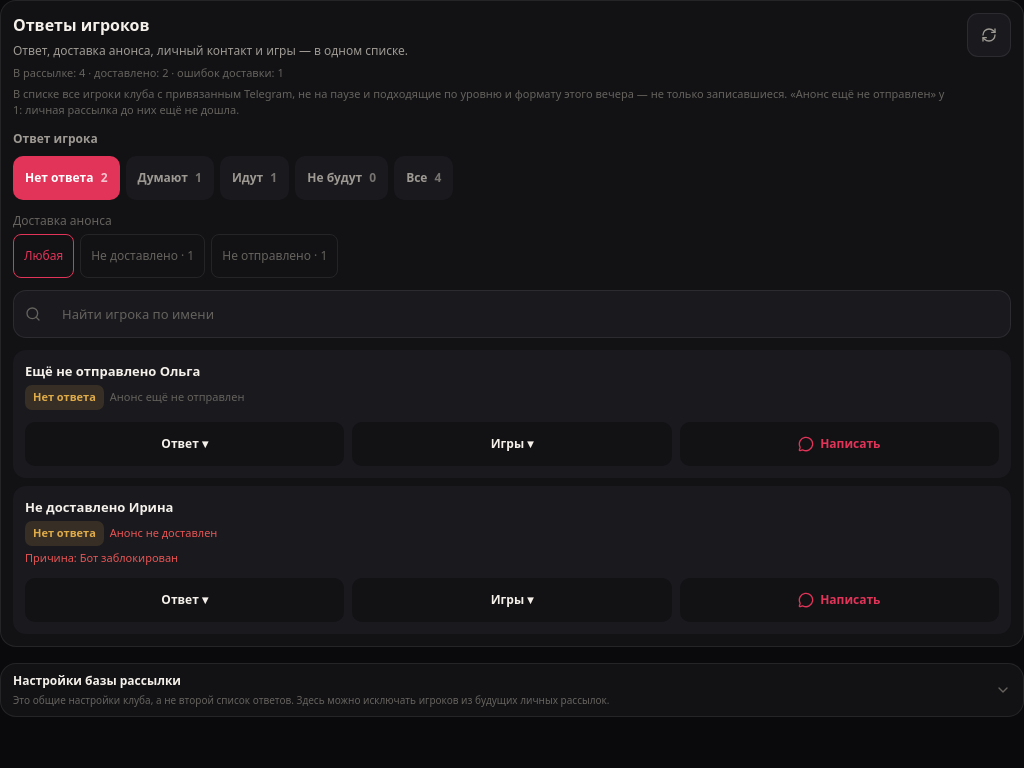
Test: one organizer response and delivery worklist › keeps response buckets separate from delivery and closes the picker without saving
Check: the element with test id "evening-answer-row-p-failed" is shown, box [13,486,1011,634]
What coordinates should you click on to do the following:
click the button "Думают 1"
I would click on:
 (170, 178)
Its box is [126,156,214,200].
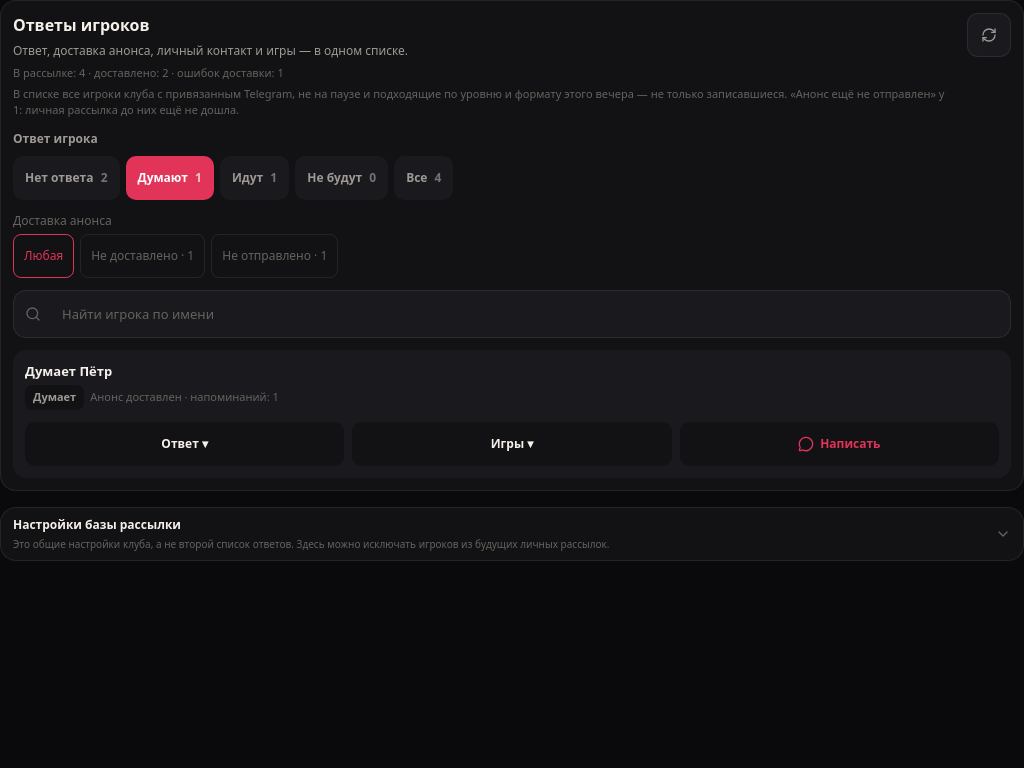
Check: the element with test id "evening-answer-row-p-thinking" is shown, box [13,350,1011,478]
Check: the element with test id "evening-answer-row-p-failed" is gone
What coordinates should you click on to do the following:
click the button "Все 4"
I would click on:
 (424, 178)
Its box is [394,156,453,200].
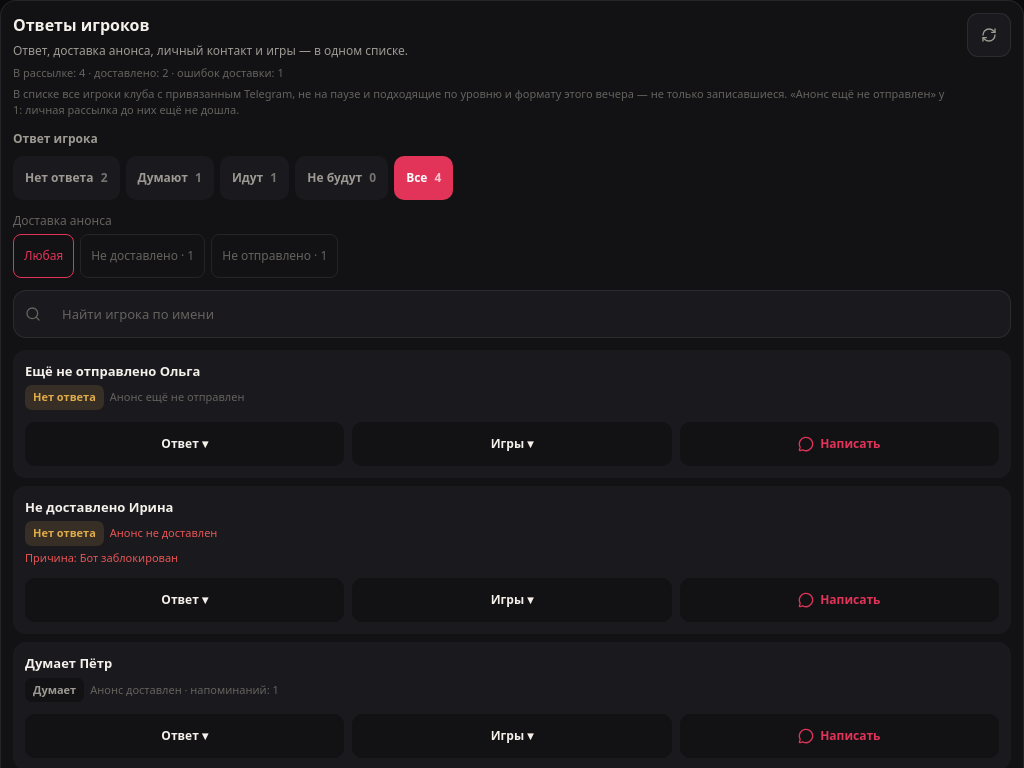
What coordinates should you click on to do the following:
click the button "Не доставлено · 1"
I would click on:
 (143, 256)
Its box is [80,234,205,278].
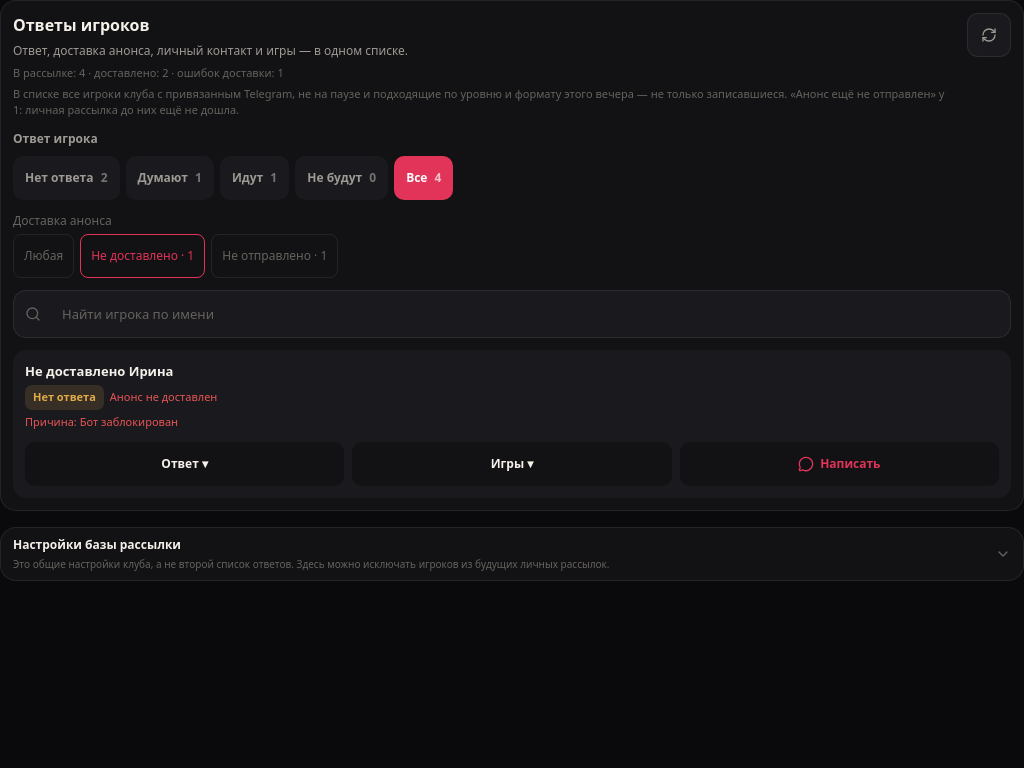
What coordinates should you click on to do the following:
click the button "Ответ ▾"
I would click on:
 (185, 464)
Its box is [25,442,344,486].
(page scrolled)
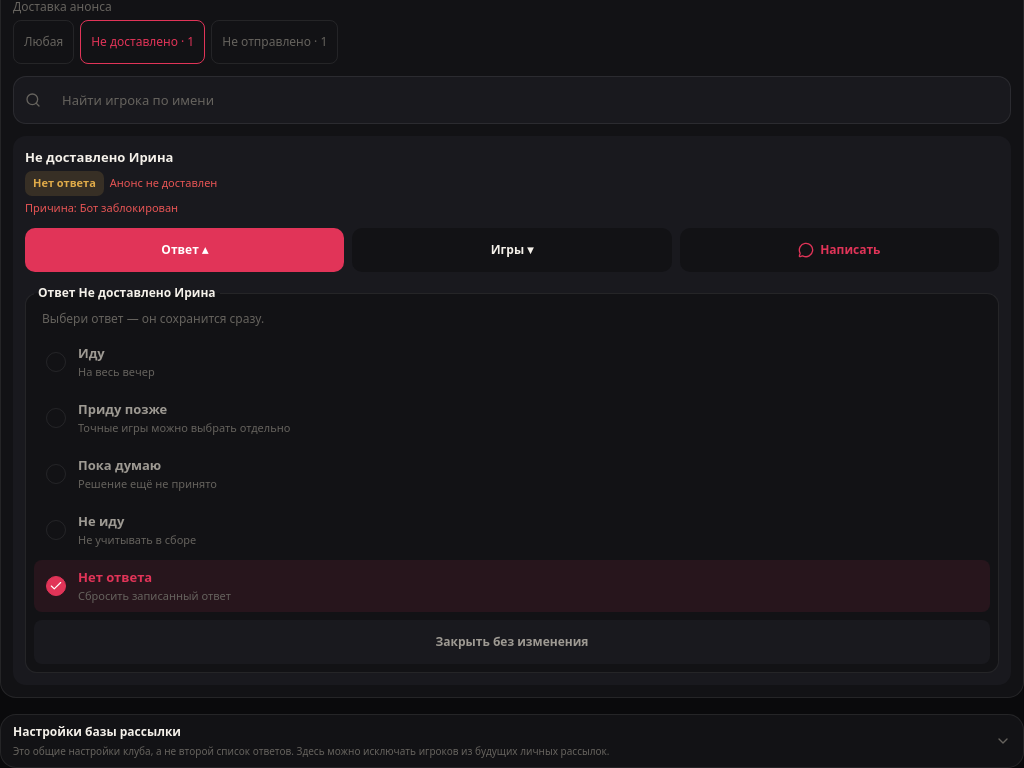
What coordinates should you click on to do the following:
click the button "Закрыть без изменения"
I would click on:
 (512, 642)
Its box is [34,620,990,664].
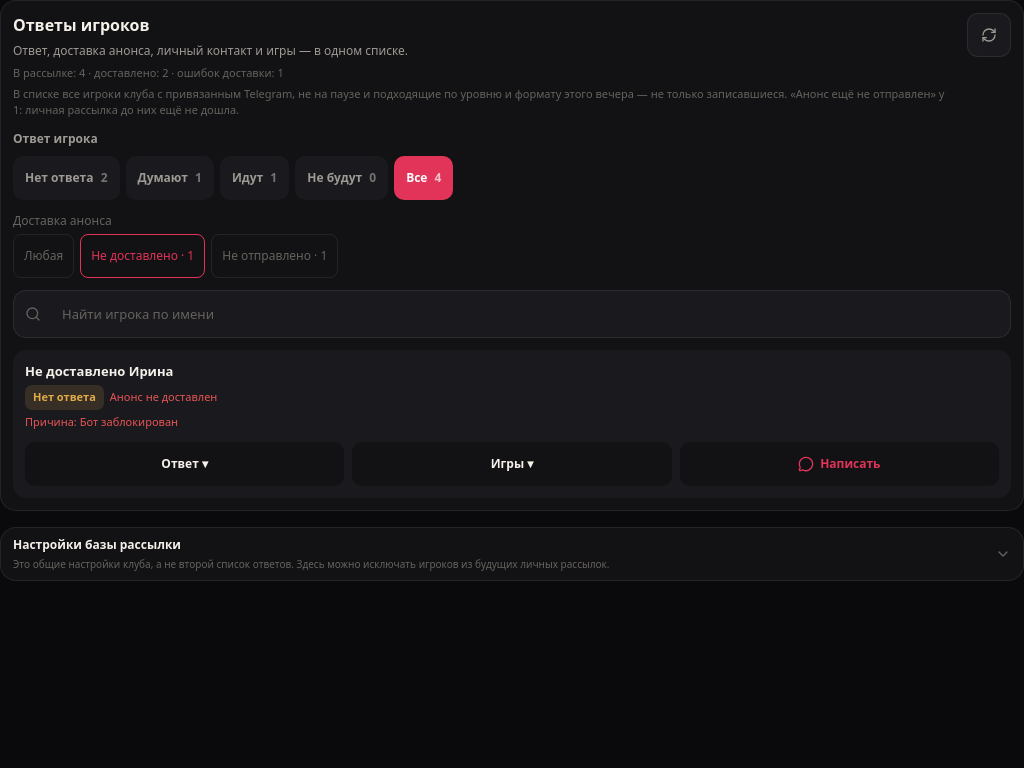
Check: the text "Ответ Не доставлено Ирина" is gone
